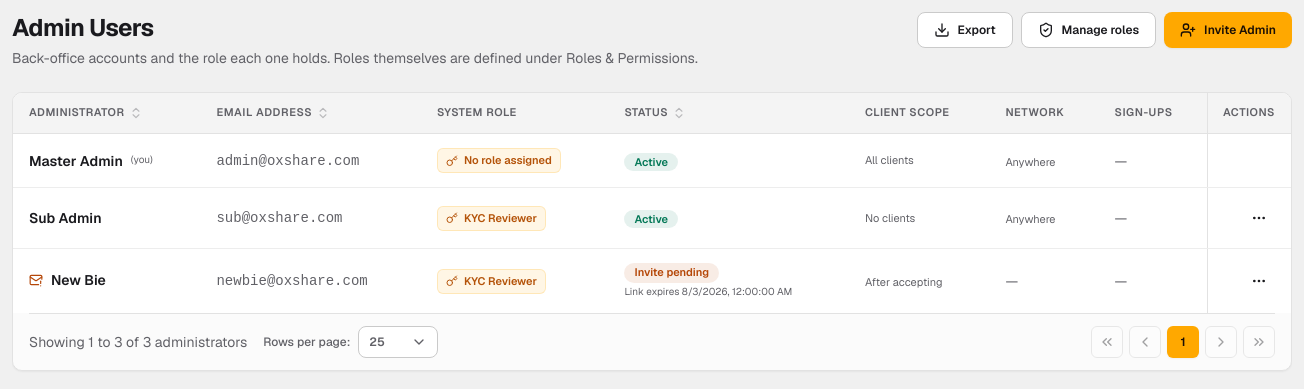
Test: outstanding invites, in the directory › offers revoke and nothing else — there is no account yet
Check: the text "newbie@oxshare.com" is shown, box [200, 249, 421, 313]
Click the button named "Actions for New Bie": coordinates (1259, 281) [1243, 265, 1275, 297]
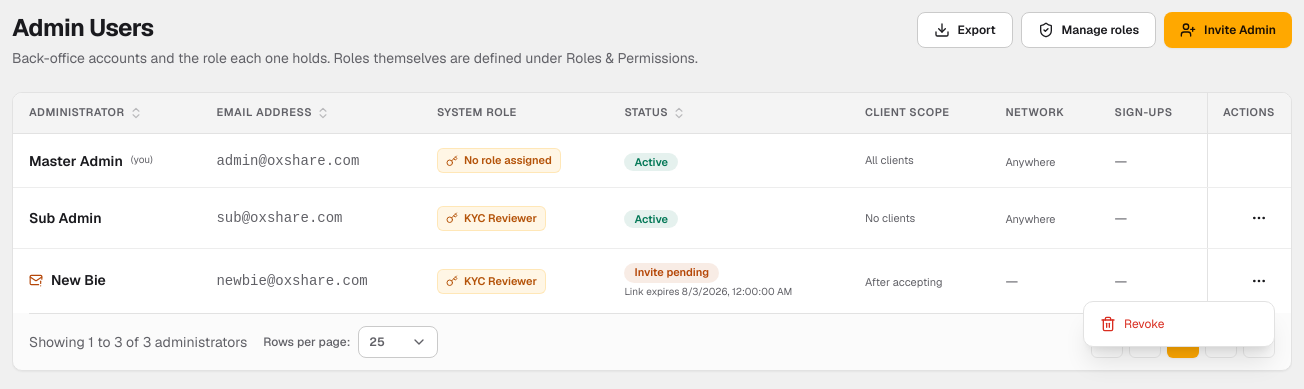
Check: the menu item "Revoke" is shown, box [1100, 316, 1164, 332]
